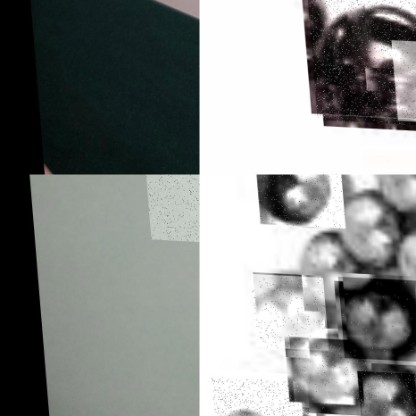ironball: (305, 0, 415, 122), (317, 174, 406, 273), (335, 272, 415, 357), (285, 328, 365, 406), (287, 229, 359, 306), (254, 174, 344, 224), (380, 218, 415, 306), (353, 366, 415, 415), (364, 174, 415, 216), (389, 36, 415, 118), (394, 312, 415, 395)
